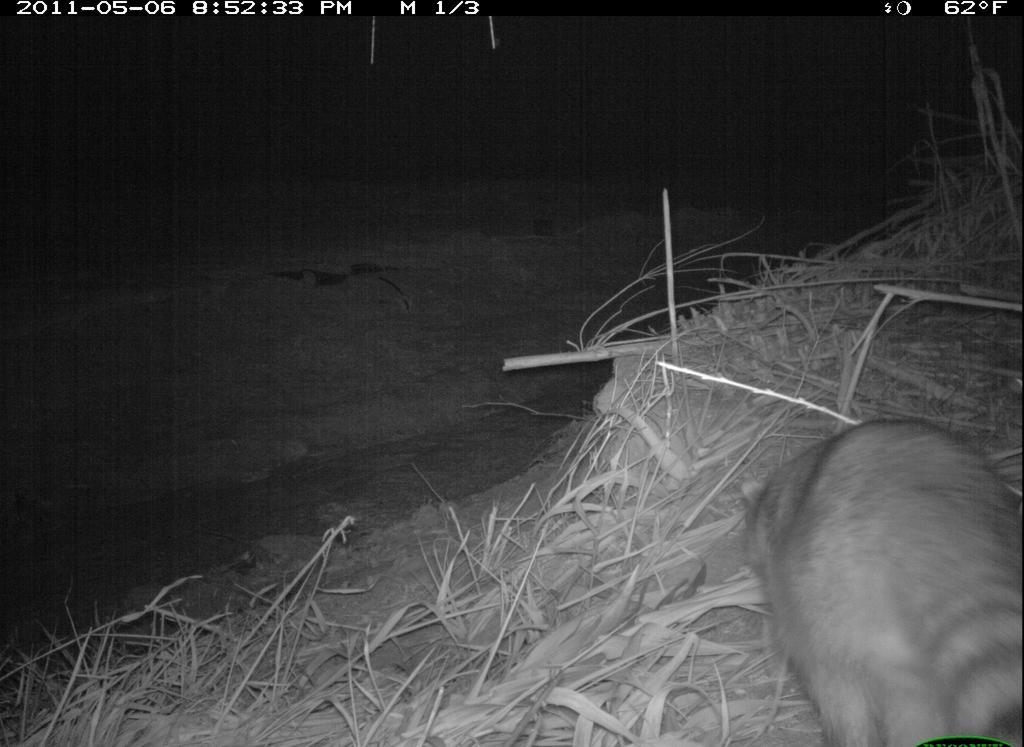raccoon: (744, 413, 1023, 747)
